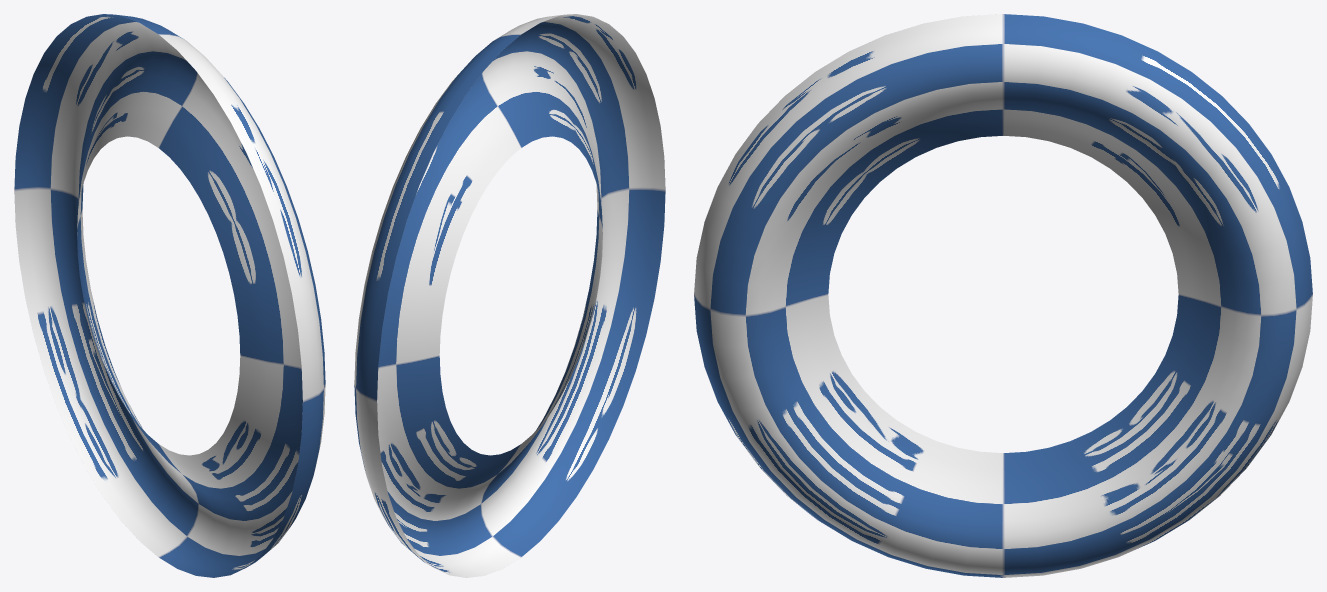
File: RuiDad_Torus1.fbx
3 views of the same model, side by side, from view 1: azimuth 30°, elevation 25°; view 2: azimuth 150°, elevation 25°; view 3: azimuth 270°, elevation 25° (orthographic). The views are drawn at different scales.
Parts seen in each view (by area): view 1: SM_e_Plc_P1009_Torus001; view 2: SM_e_Plc_P1009_Torus001; view 3: SM_e_Plc_P1009_Torus001.
Part boxes in pixels (box(x1,y1,x2,y2)): SM_e_Plc_P1009_Torus001: box(14, 14, 325, 577); SM_e_Plc_P1009_Torus001: box(354, 14, 665, 577); SM_e_Plc_P1009_Torus001: box(694, 14, 1312, 577).
Bounding box in the file's own units: 9.57 × 119 × 119.
